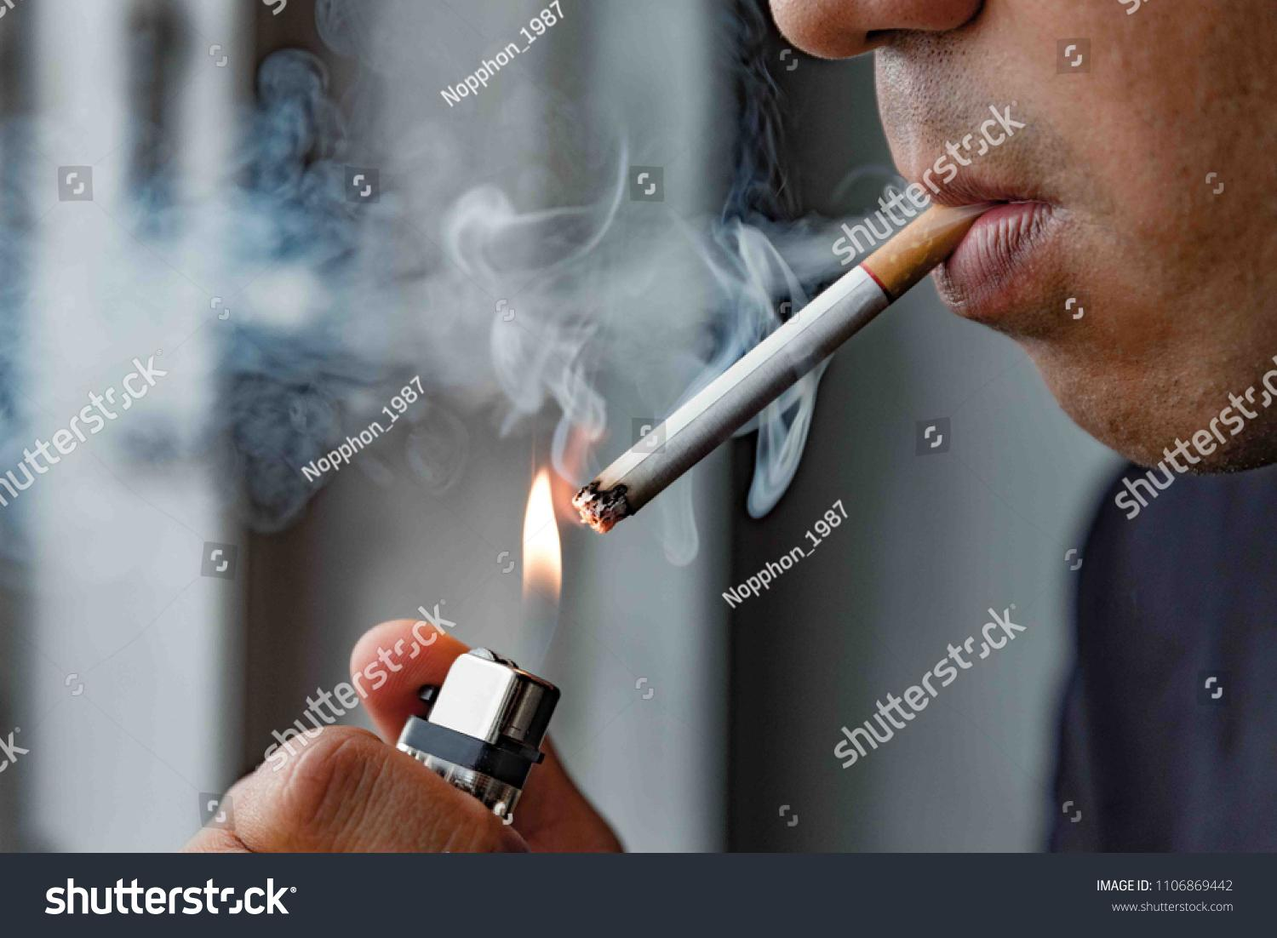cigarette: (573, 203, 991, 532)
